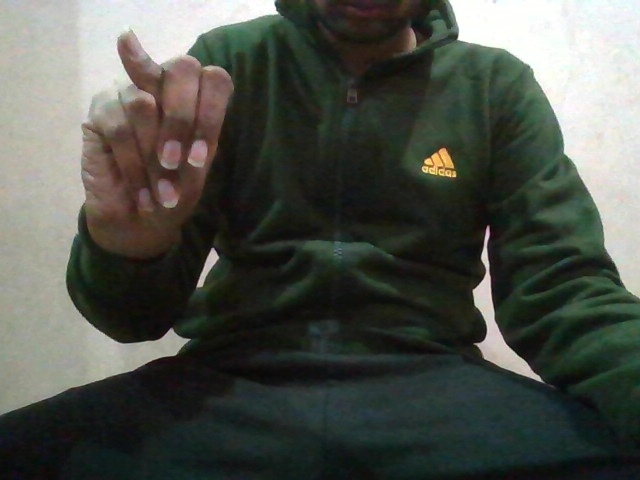N: (66, 23, 246, 251)
